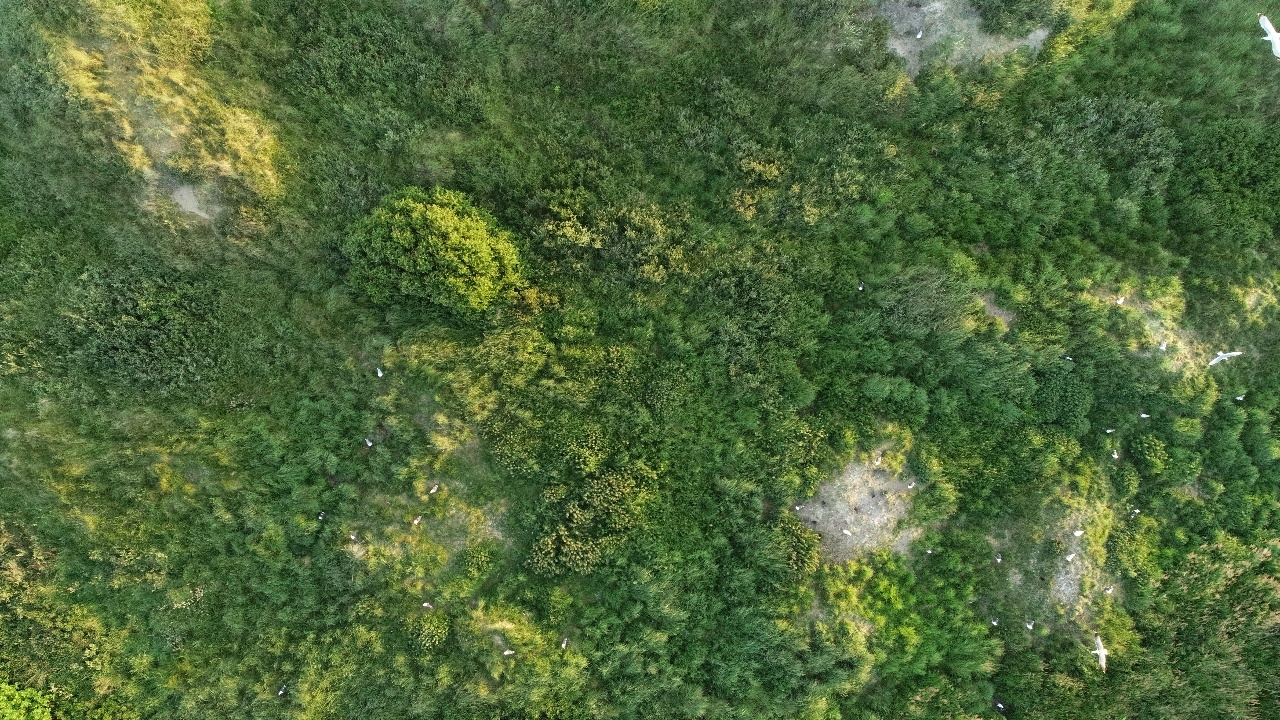Bird: (1082, 622, 1120, 679), (1248, 8, 1280, 68), (1202, 343, 1247, 374), (366, 357, 393, 385), (356, 427, 383, 455), (420, 473, 447, 501), (402, 504, 429, 532), (307, 501, 334, 529), (269, 674, 296, 702), (412, 591, 439, 619), (499, 639, 526, 667), (552, 629, 579, 657), (984, 607, 1011, 635), (1015, 610, 1042, 638), (990, 689, 1017, 717), (987, 542, 1014, 570), (898, 469, 925, 497), (863, 444, 890, 472), (784, 491, 811, 519), (833, 516, 860, 544), (1058, 539, 1085, 567), (1069, 516, 1096, 544), (1097, 576, 1124, 604), (1122, 501, 1149, 529), (1104, 439, 1131, 467), (1098, 415, 1125, 443), (1130, 402, 1157, 430), (1149, 331, 1176, 359), (1104, 285, 1131, 313), (849, 271, 876, 299), (1231, 381, 1258, 409), (905, 20, 932, 48)
